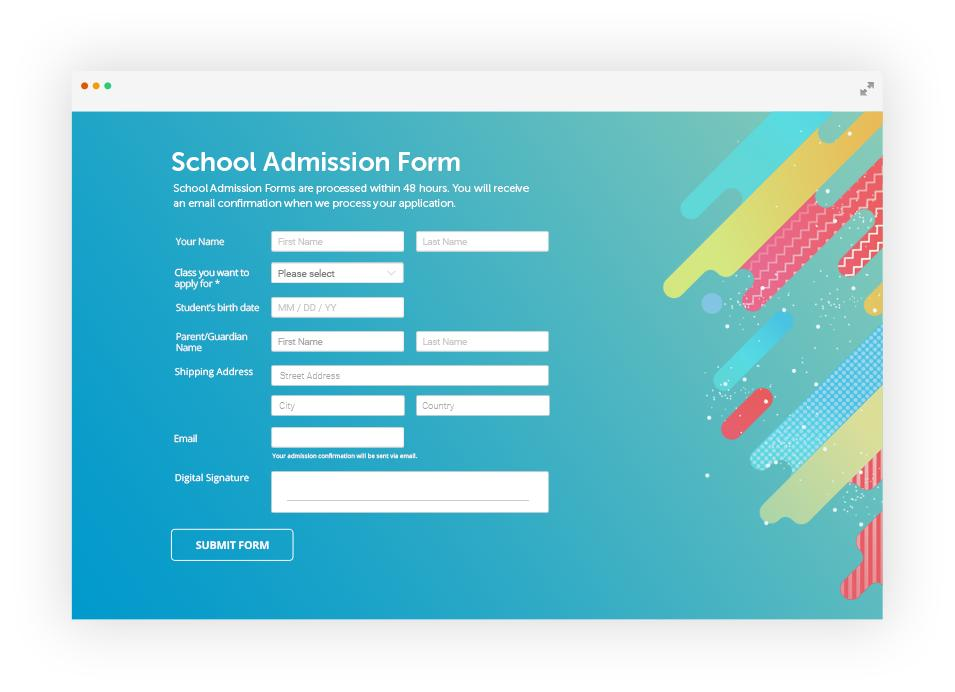button: (157, 523, 327, 571)
dropdown: (266, 259, 410, 295)
textbox: (260, 464, 557, 521), (266, 227, 407, 253)
